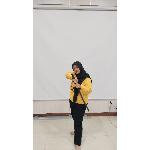Pedang: (69, 72, 95, 114)
